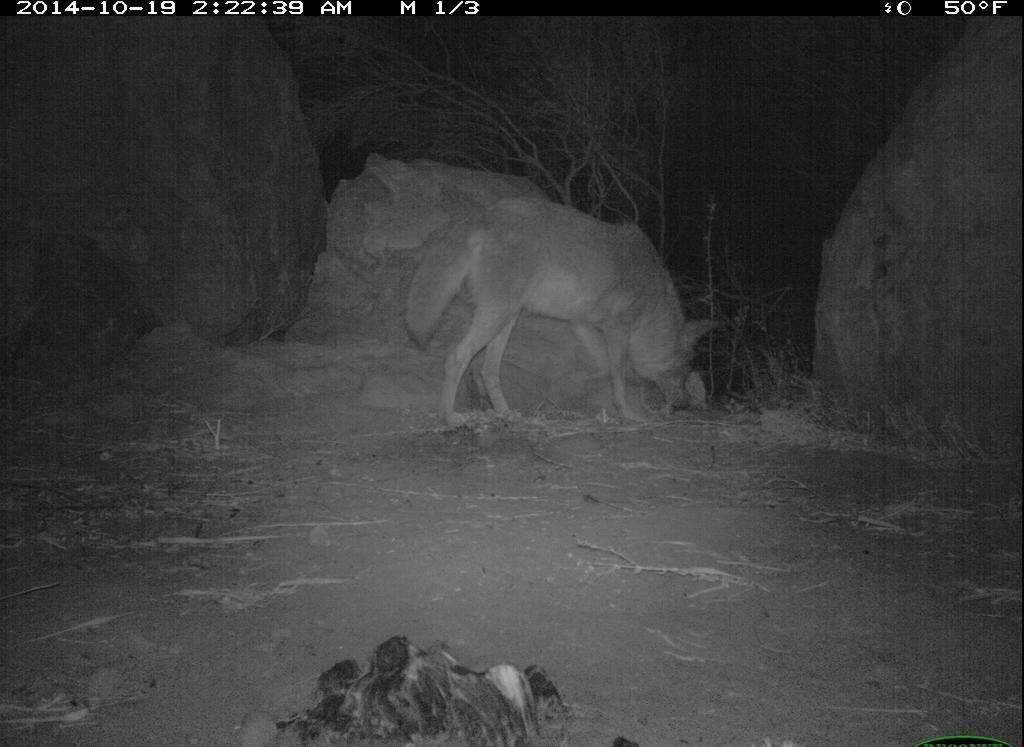coyote: (398, 203, 729, 431)
